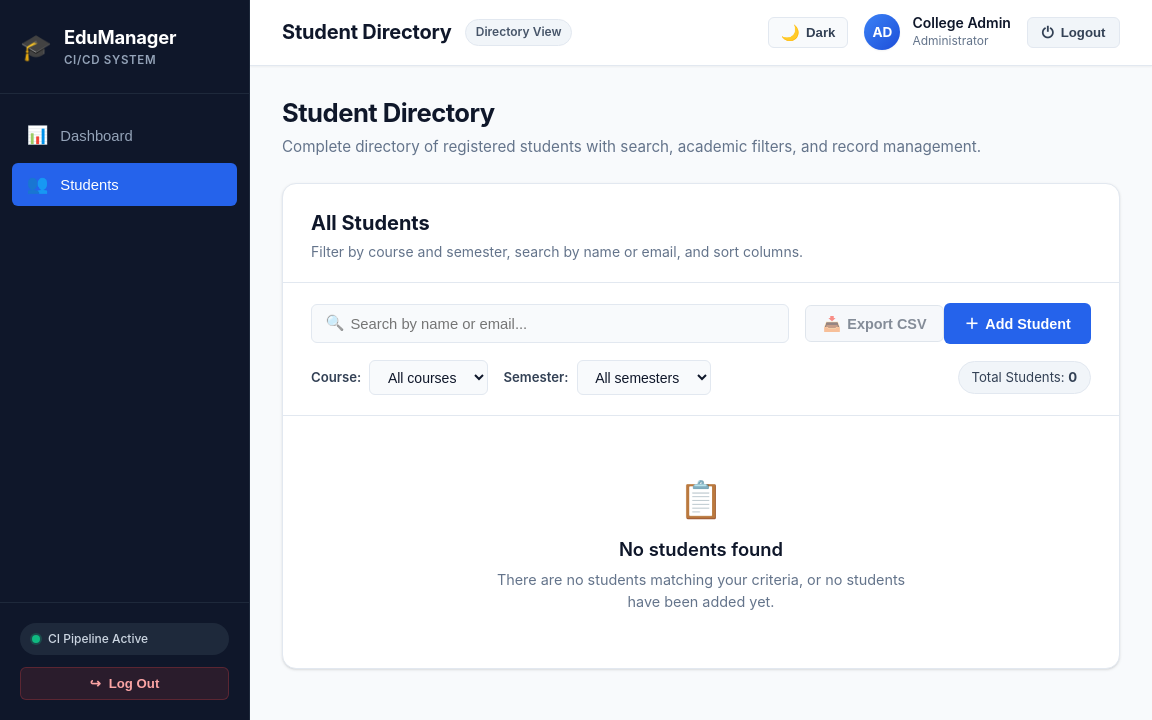
Scenario: Student Management System - Frontend Tests › submits a new student and updates the directory and summary cards
The width and height of the screenshot is (1152, 720).
Expected: the heading "No students found" is shown, [619,538,783,560]
Click the button with aria-label "add new student".
click(1018, 324)  # box [944,303,1091,344]
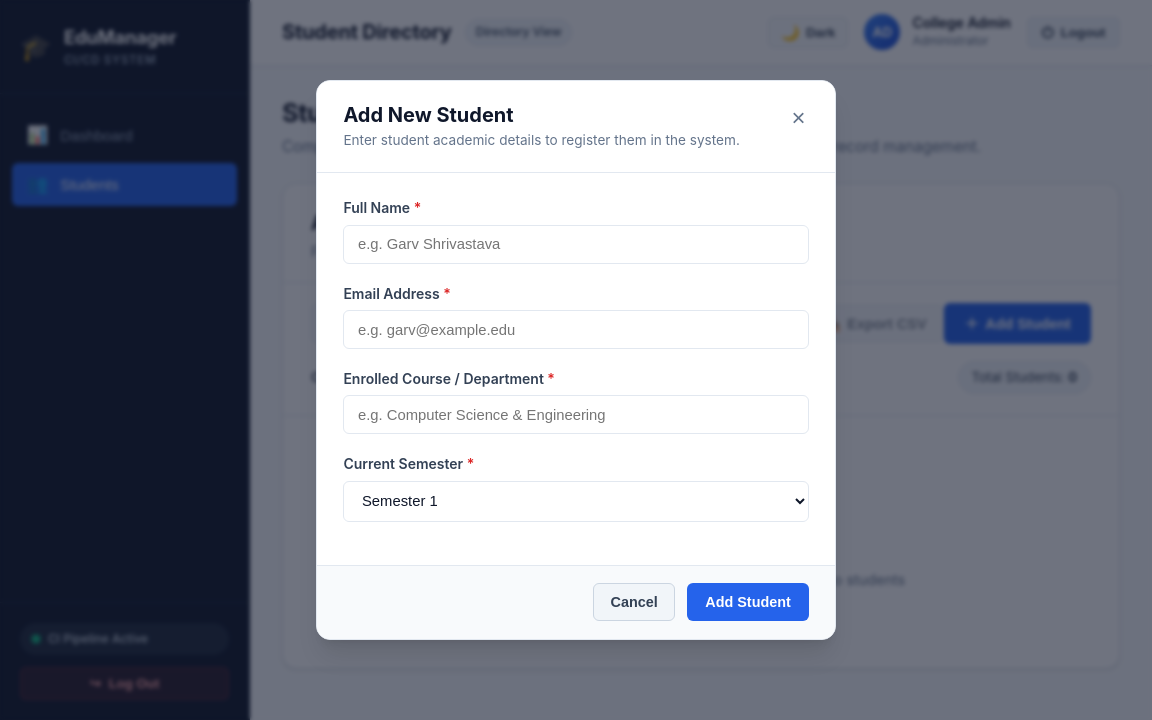
Now the heading "Add New Student" is shown, box [343,103,514,127]
Type "New Scholar" into the field labelled "Full Name *".
click(576, 244); type("New Scholar")  # box [343,225,809,264]
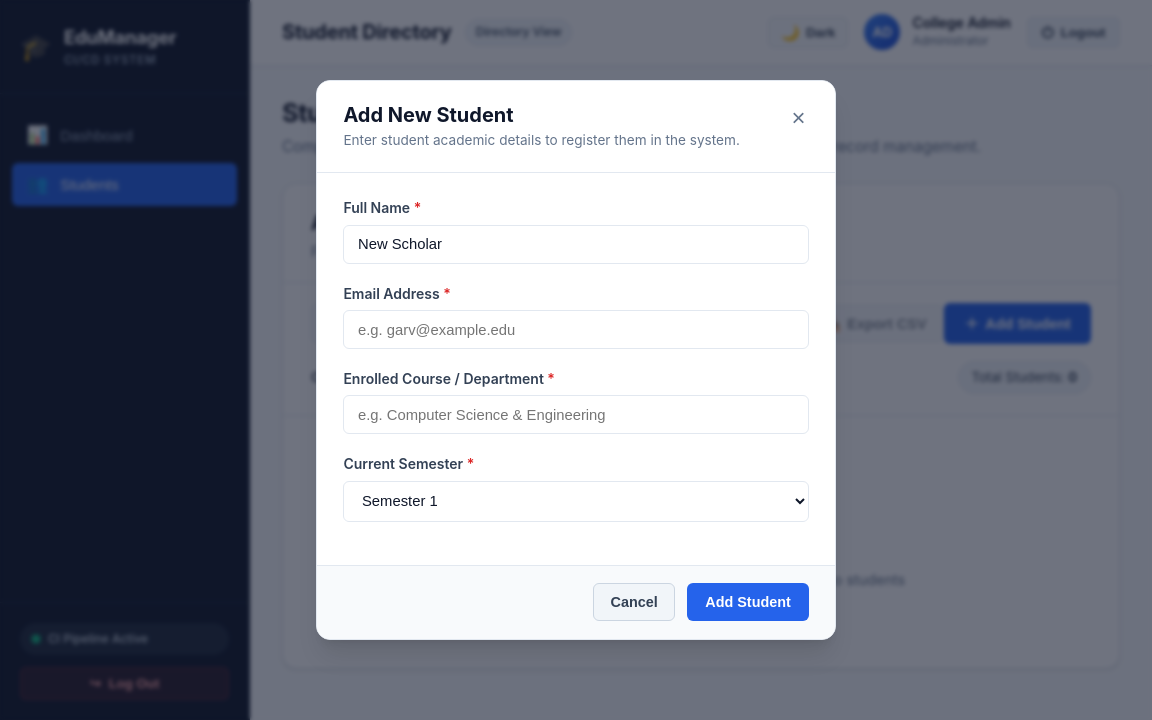
Type "scholar@college.edu" into the field labelled "Email Address *".
click(576, 330); type("scholar@college.edu")  # box [343,310,809,349]
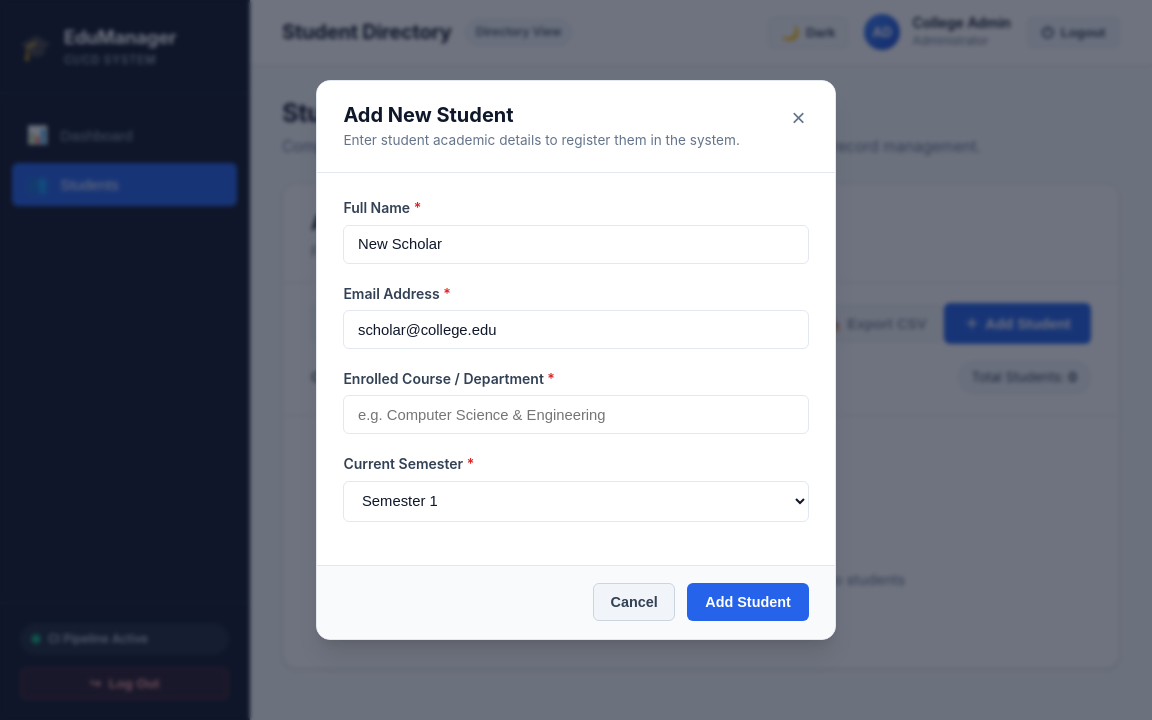
Type "Data Science" into the field labelled "Enrolled Course / Department *".
click(576, 415); type("Data Science")  # box [343,396,809,434]
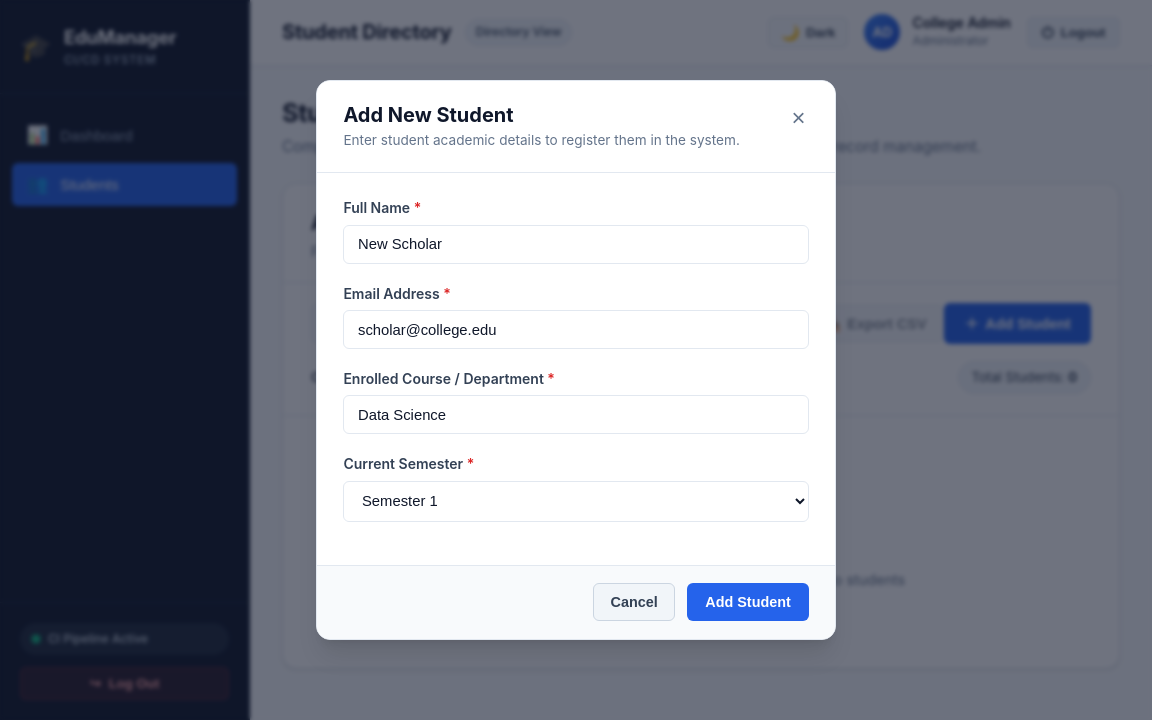
Select "Semester 2" in the dropdown labelled "Current Semester *" at (576, 501), box [343,481,809,522]
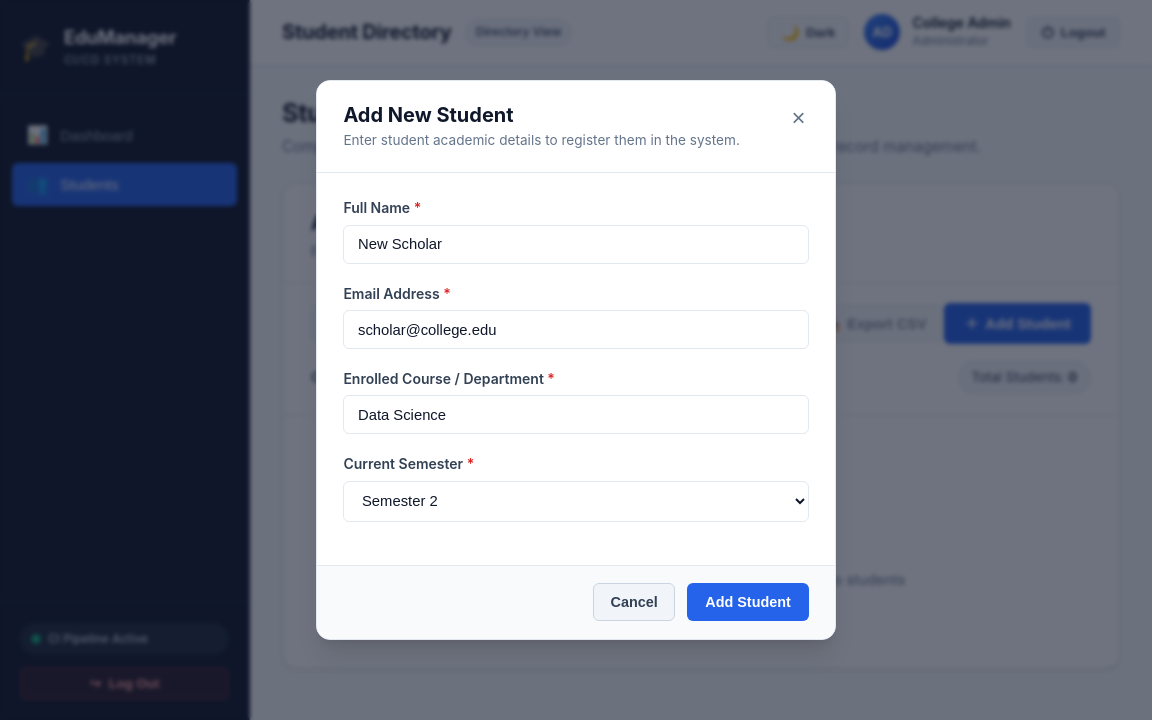
Click the button "Add Student".
click(748, 602)  # box [688,583,809,621]
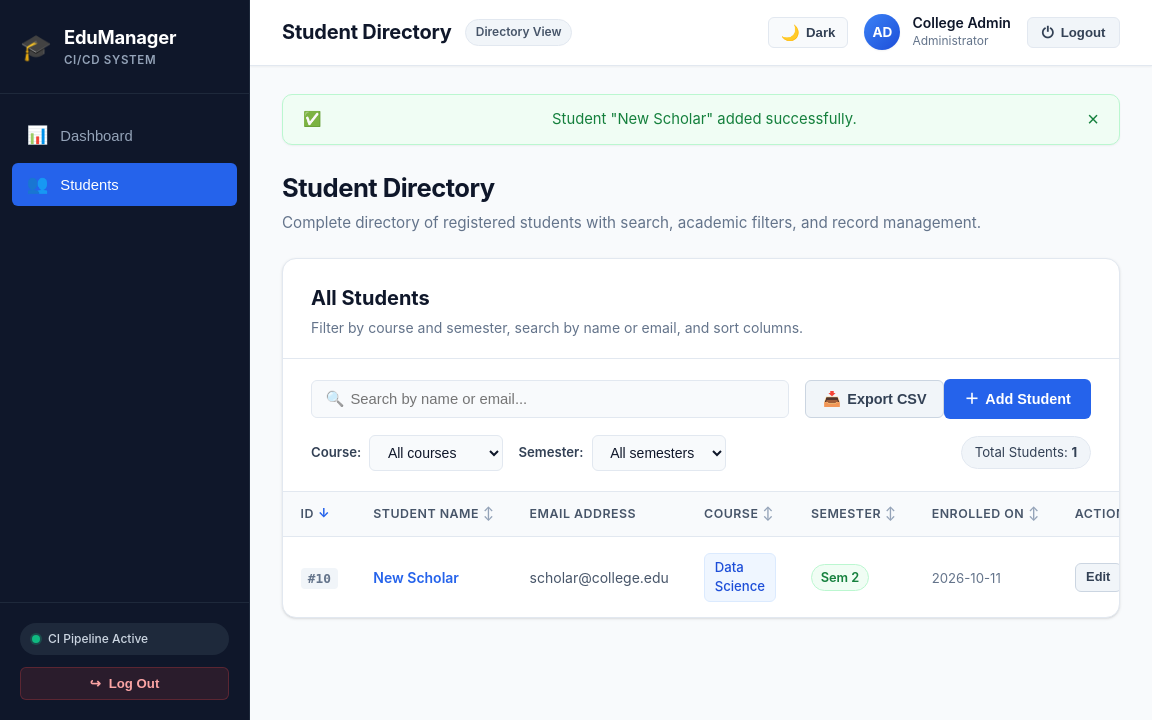
Now the table shows "New Scholar", box [373,569,459,586]
